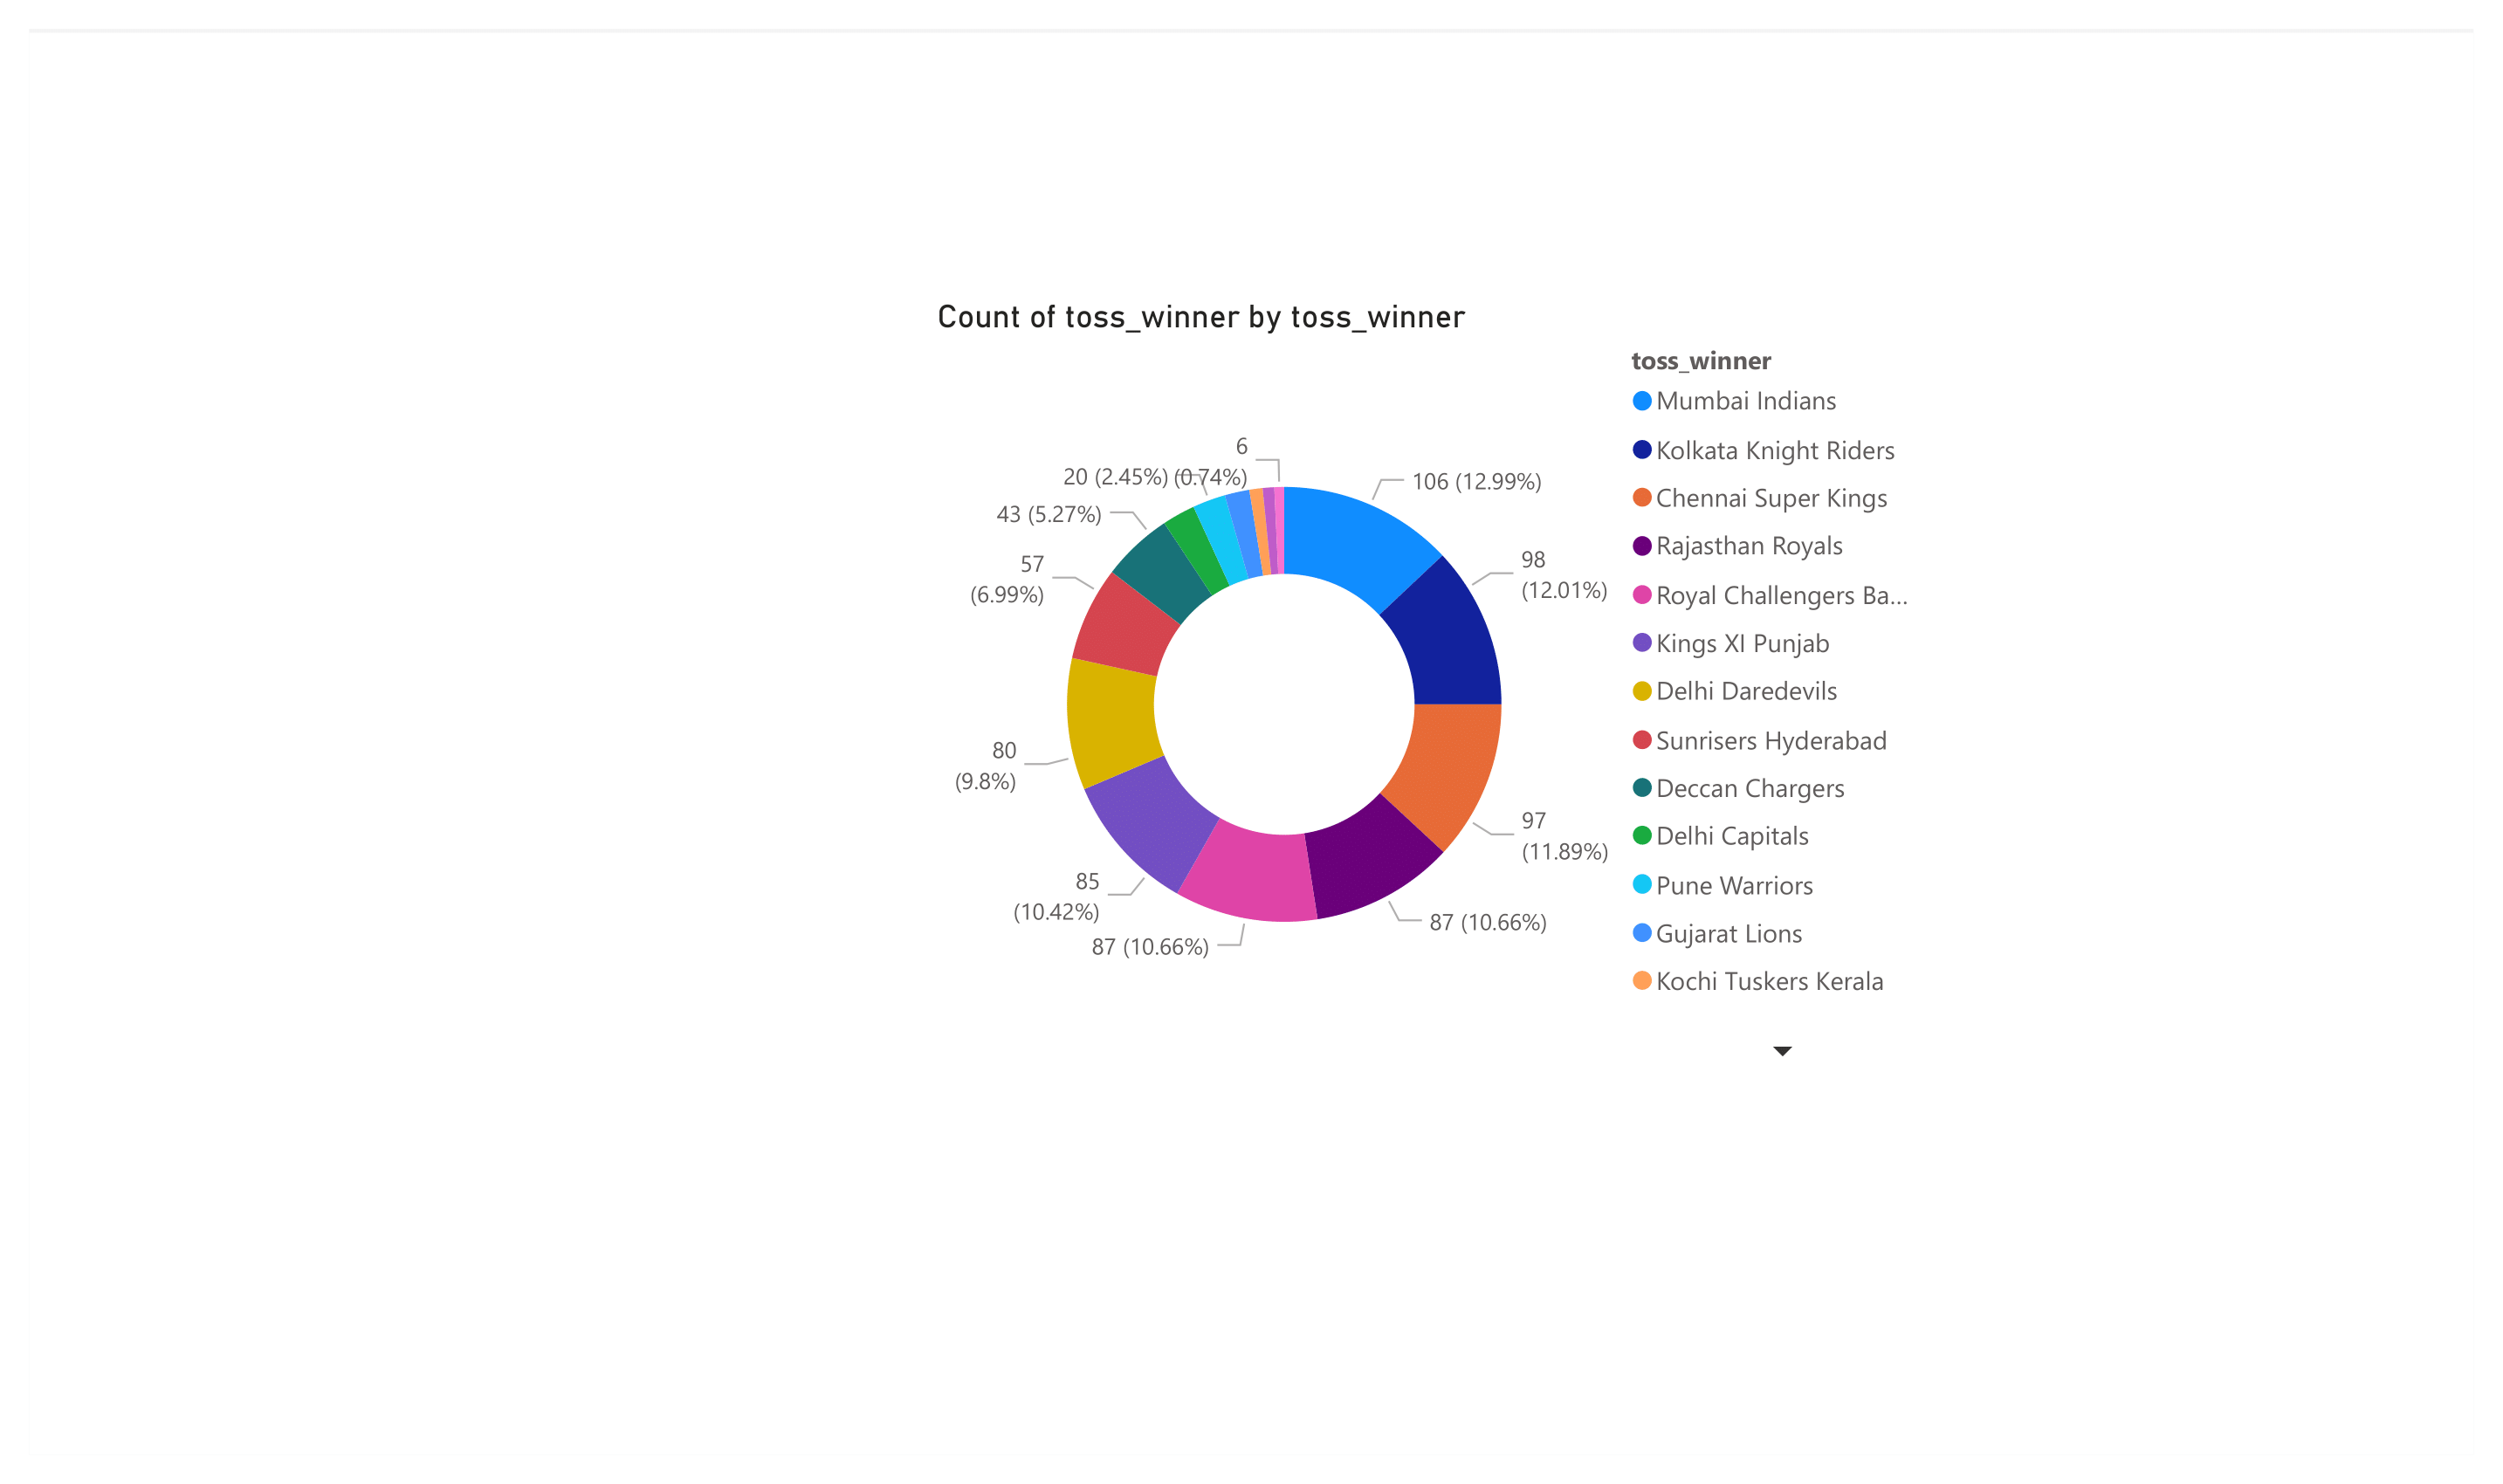

Layout of this report page (visuals, bound fields, positions):
{"tool":"powerbi","page":{"name":"Page 3","canvas":[1280,720],"ordinal":2},"visuals":[{"type":"donutChart","fields":{"Category":["IPL Matches 2008-2020.toss_winner"],"Y":["CountNonNull(IPL Matches 2008-2020.toss_winner)"]},"box":[419.9,156.1,530,407.8],"z":0}]}

Visuals, with their boxes on the page's 1280x720 design canvas (x1, y1, x2, y2). These are canvas units, not pixel positions in the 2503x1484 screenshot, which may show the page scaled, cropped or inside an application window:
donutChart - IPL Matches 2008-2020.toss_winner x CountNonNull(IPL Matches 2008-2020.toss_winner): 420 156 950 564
